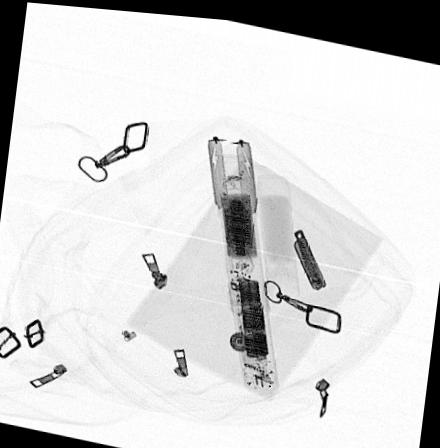Baton: (205, 130, 279, 390)
